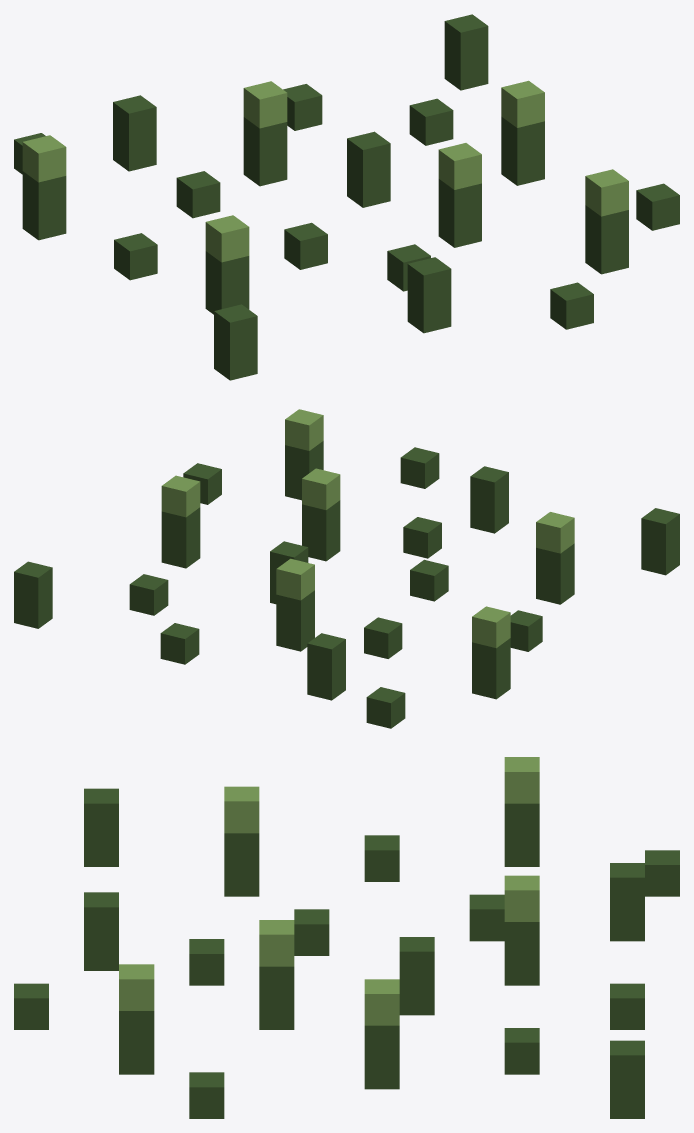
File: ambient_grass_4.fbx
3 renders of one model, top to bottom at view 1: azimuth 30°, elevation 25°; view 2: azimuth 150°, elevation 25°; view 3: azimuth 270°, elevation 25°, orthographic. The views are drawn at different scales.
Parts seen in each view (by area): view 1: Cube.058; view 2: Cube.058; view 3: Cube.058.
Part boxes in pixels (left/top/right/bottom): Cube.058: left=14, top=14, right=679, bottom=380; Cube.058: left=14, top=409, right=679, bottom=728; Cube.058: left=14, top=757, right=679, bottom=1118.
Size of the model in its own units: 180 by 30 by 190.
